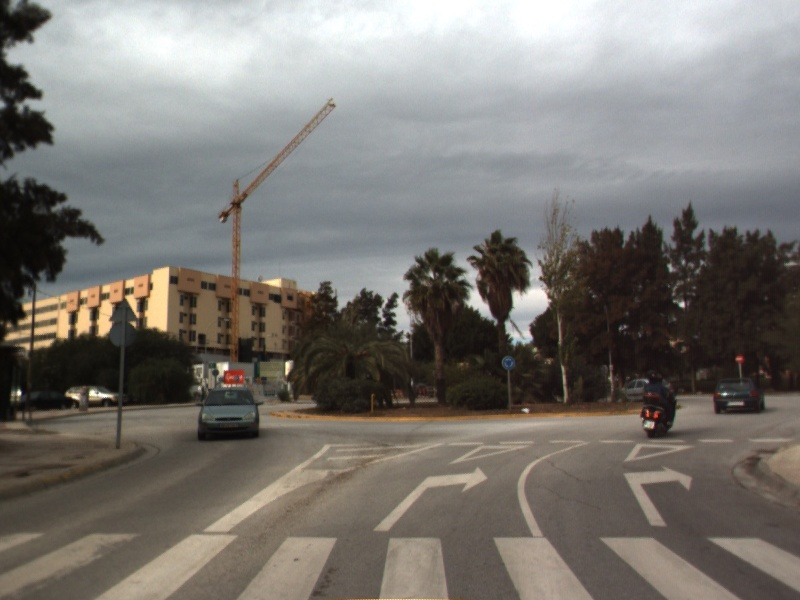RIGHT: (370, 464, 490, 533), (621, 463, 694, 528)
